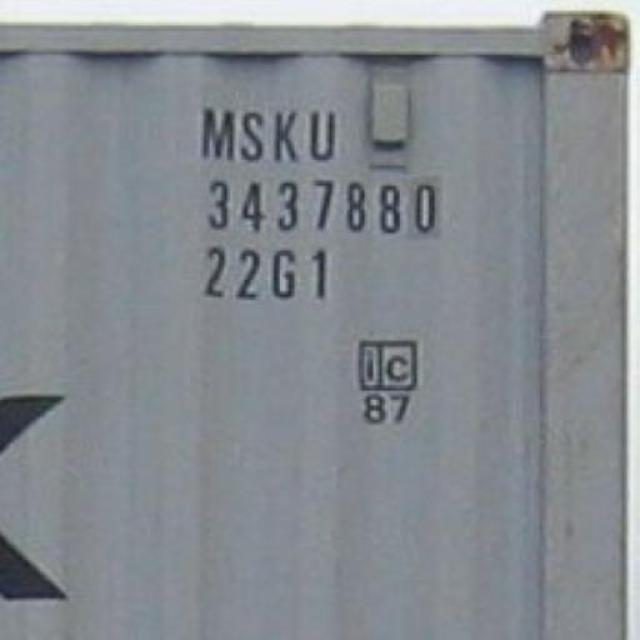ISO: (204, 242, 345, 306)
container_number: (202, 97, 450, 241)
